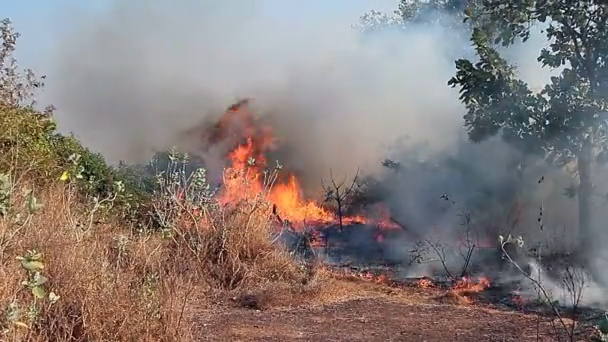fire: (60, 171, 68, 180)
